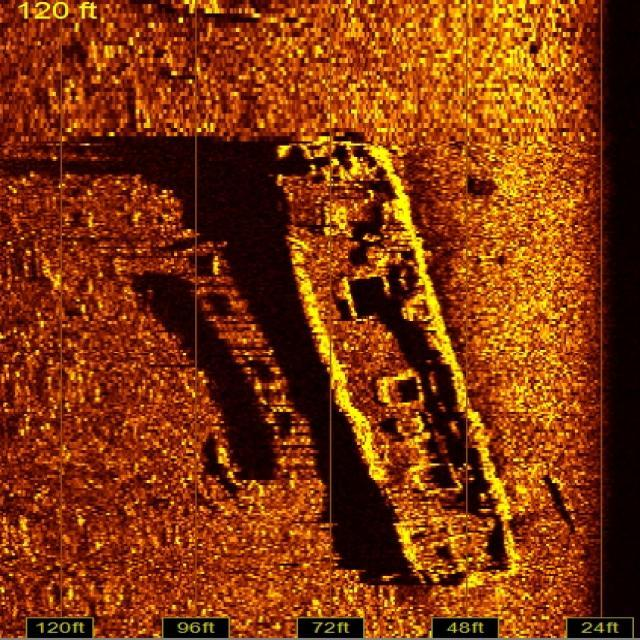shipwreck: (269, 136, 536, 590)
